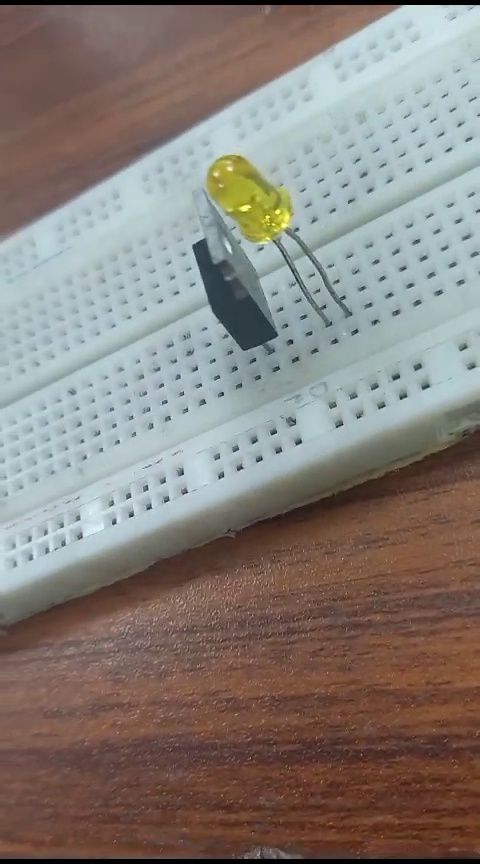LED: (211, 145, 306, 244)
voltage regulator: (194, 214, 267, 353)
